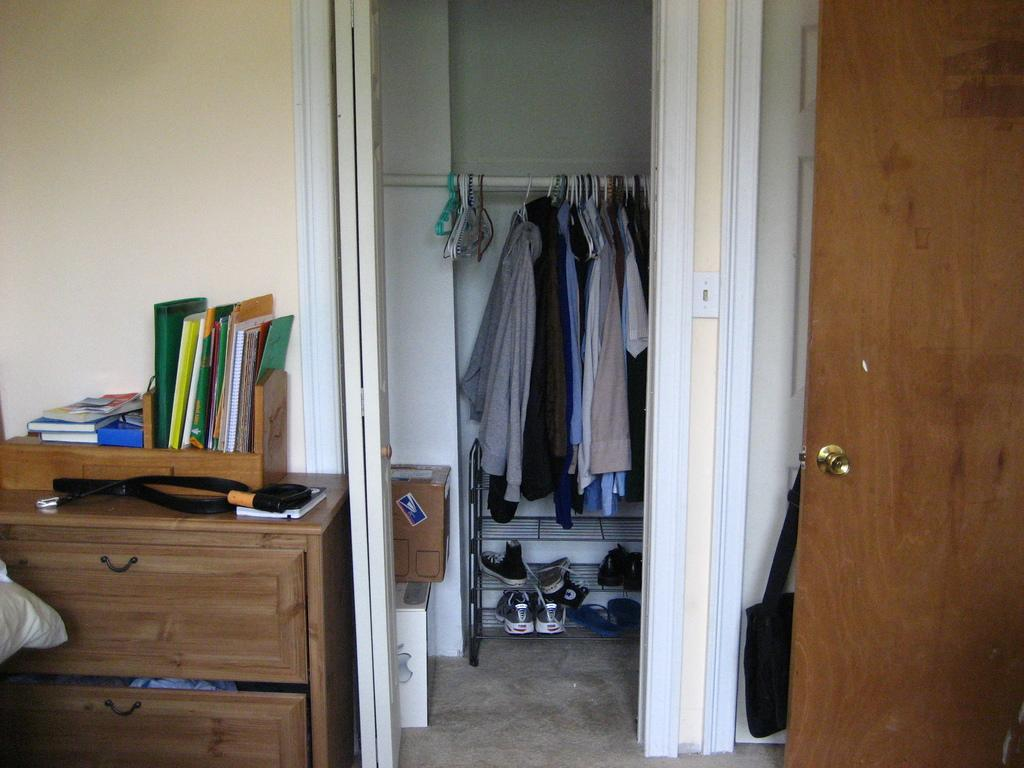cabinet_door: (16, 550, 300, 671), (19, 686, 307, 768)
handle: (818, 440, 858, 482), (89, 558, 143, 579), (101, 696, 143, 722)
